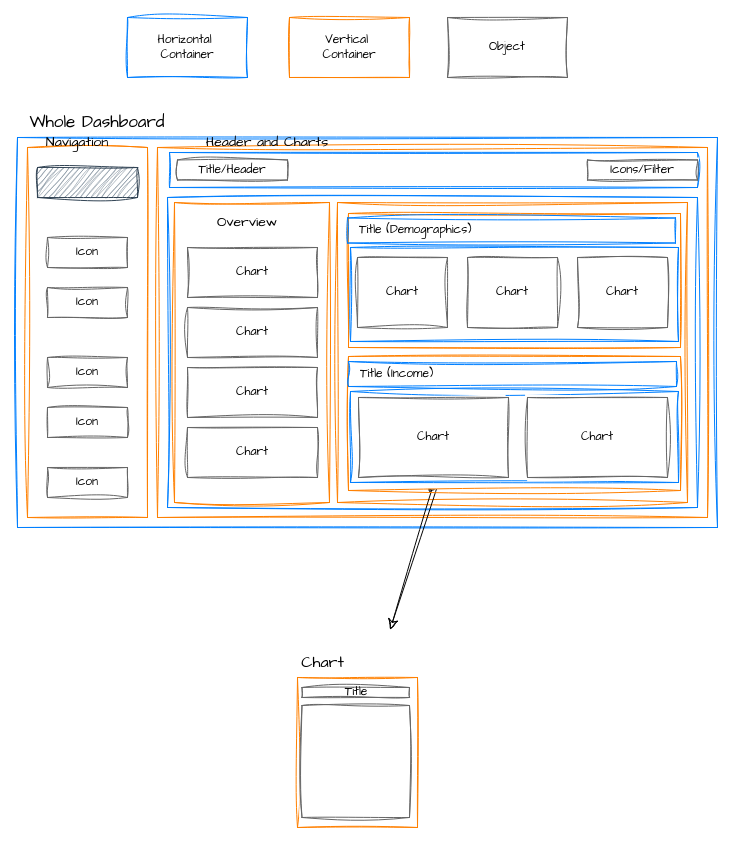
The diagram is 735 pixels wide and 845 high, and some of its shapes have lost their labels. Here are the shapes that lost their labels. From the top down, the centre of each, then its label:
(x=87, y=182): Logo
(x=355, y=761): Graph/Chart
